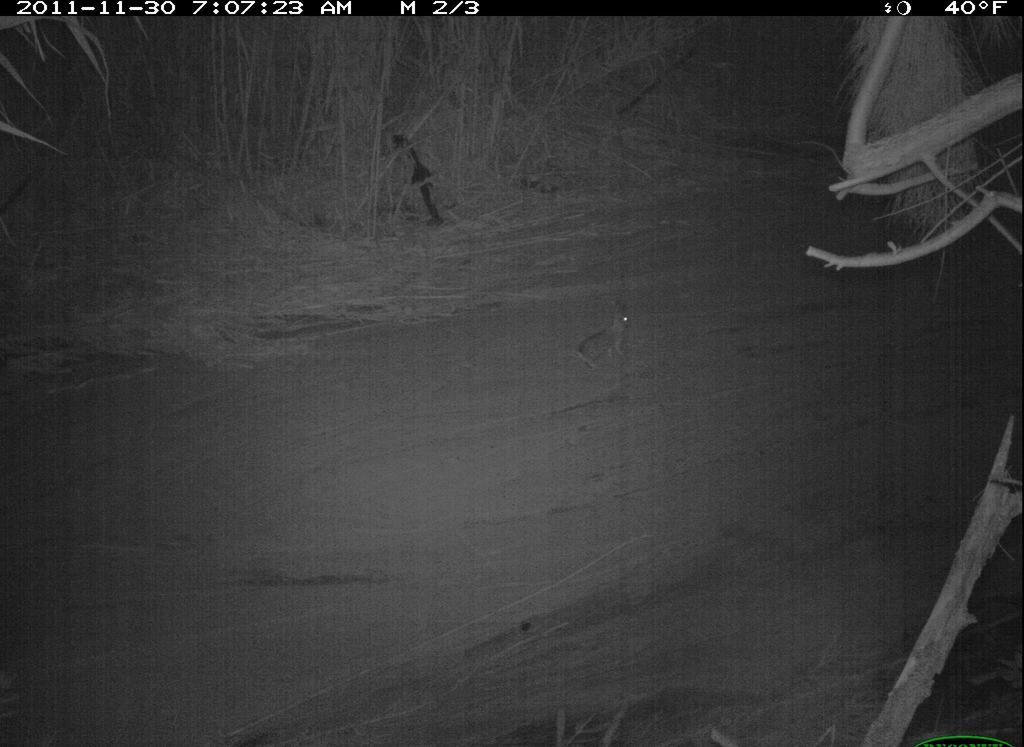rabbit: (557, 291, 662, 386)
